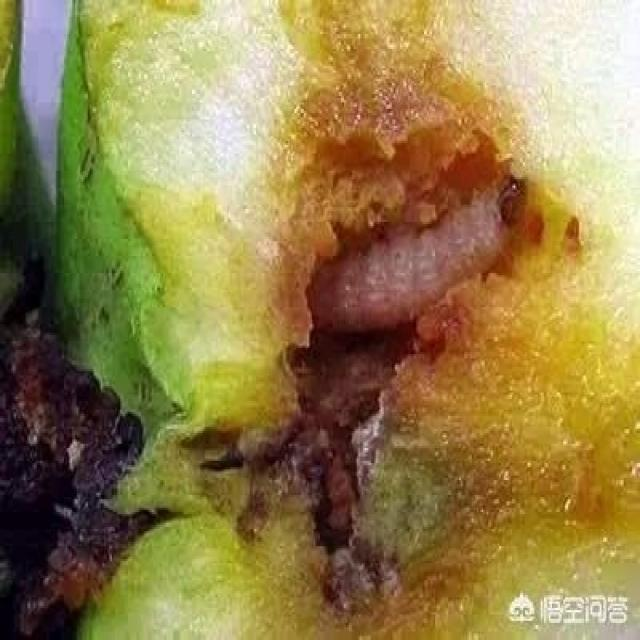peach borer: (301, 182, 543, 329)
